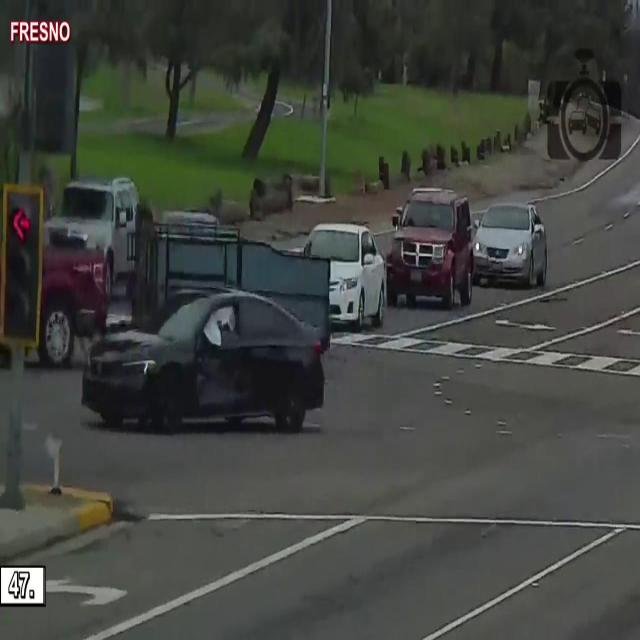accident: (78, 283, 329, 448)
